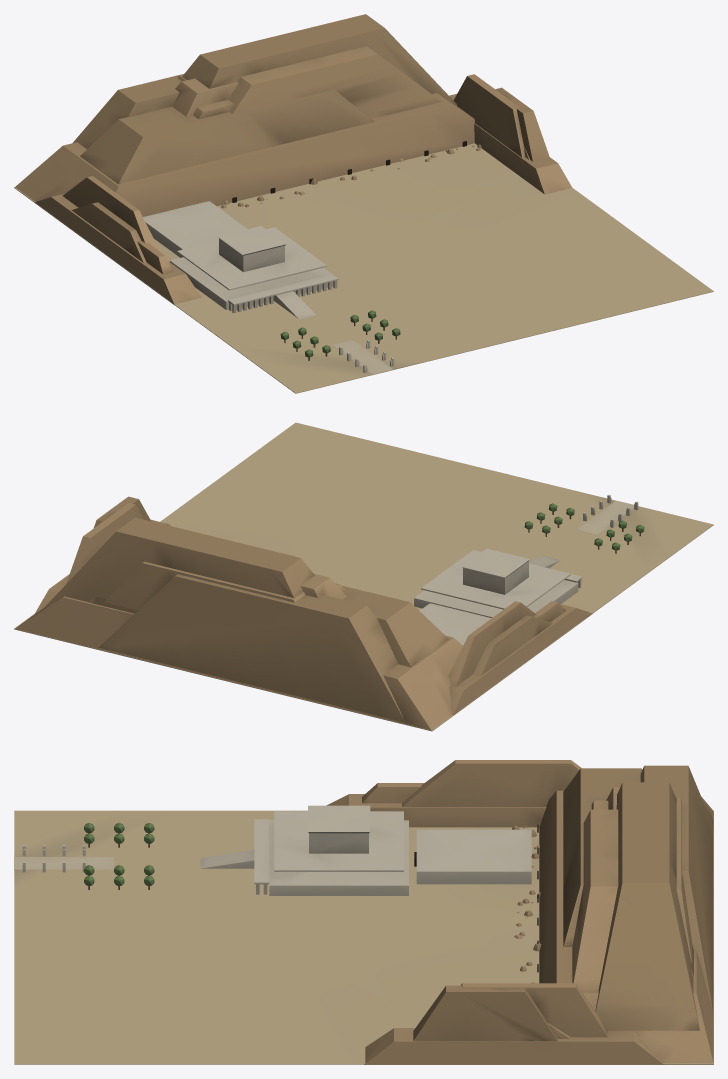
The model's file is deir-el-bahari-1950.glb.
The picture shows the model from 3 angles, top to bottom: view 1: azimuth 30°, elevation 25°; view 2: azimuth 150°, elevation 25°; view 3: azimuth 270°, elevation 25°; orthographic projection. The views are drawn at different scales.
Parts seen in each view (by area): view 1: p0_cliff, p1_mentuhotep, p3_garden; view 2: p0_cliff, p1_mentuhotep, p3_garden; view 3: p0_cliff, p1_mentuhotep, p3_garden.
Part boxes in pixels (x1,y1,x2,y2): p0_cliff: [14, 14, 713, 393]; p1_mentuhotep: [143, 201, 338, 319]; p3_garden: [280, 310, 400, 373]; p0_cliff: [14, 422, 713, 731]; p1_mentuhotep: [414, 548, 582, 645]; p3_garden: [524, 494, 644, 553]; p0_cliff: [14, 760, 713, 1064]; p1_mentuhotep: [200, 805, 531, 895]; p3_garden: [22, 823, 154, 889].
Bounding box in the file's own units: 240 × 57.79 × 280.
